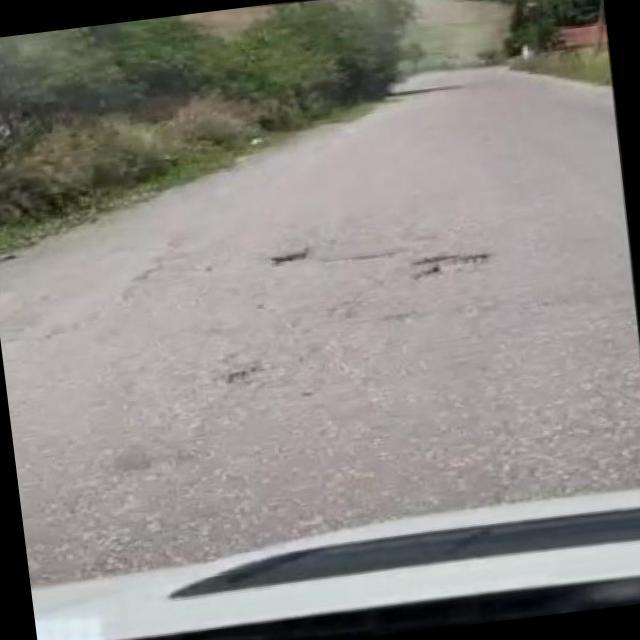Pothole: (412, 252, 492, 279), (271, 249, 309, 265)
